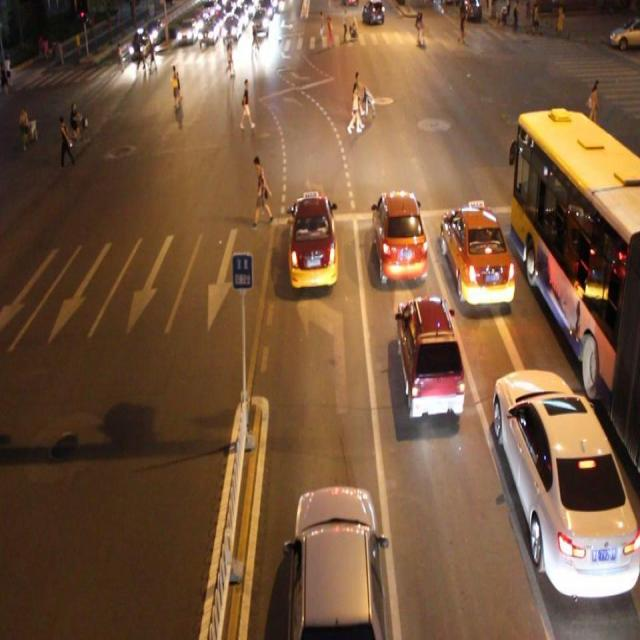BigCar: (513, 105, 640, 373)
car: (490, 367, 634, 604), (281, 482, 386, 640), (393, 293, 471, 431), (442, 193, 521, 315), (365, 186, 429, 283), (288, 189, 341, 291), (613, 15, 638, 56), (177, 15, 195, 56), (132, 23, 152, 58), (365, 0, 386, 32), (199, 19, 218, 53), (224, 12, 242, 44), (253, 11, 271, 42)
